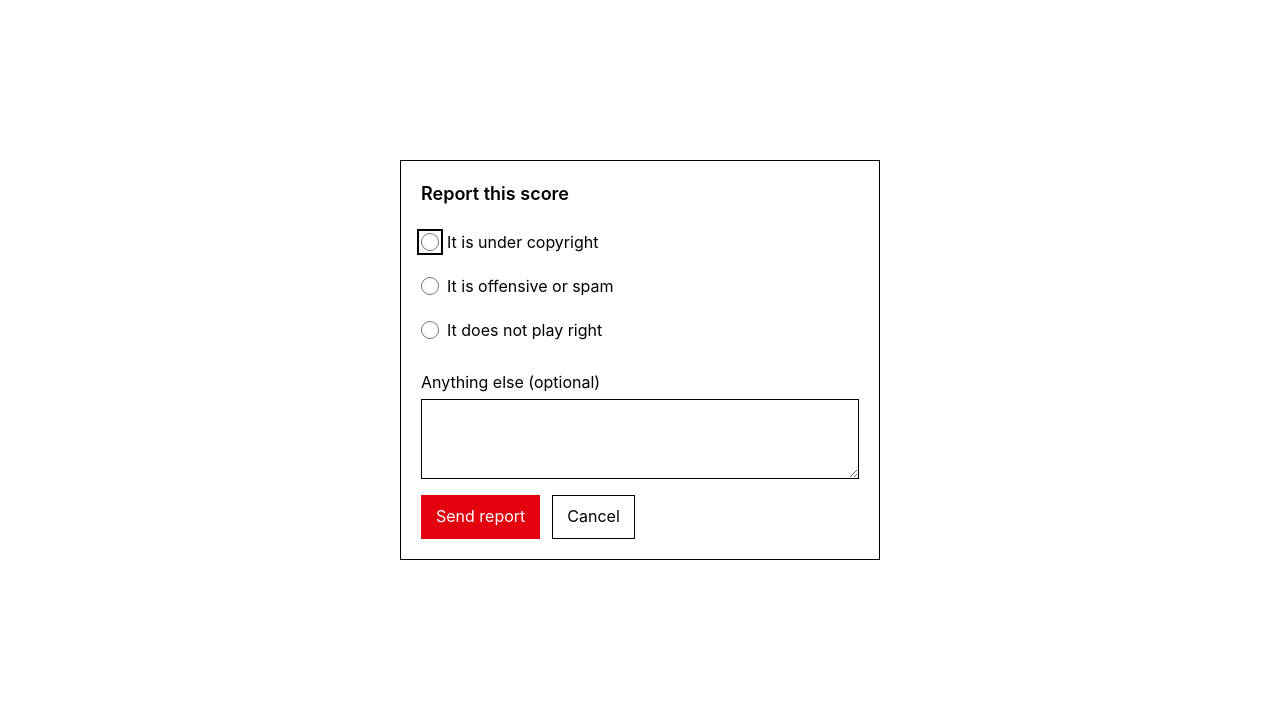
Test: a report that cannot be sent says so and leads to a removal request on GitHub
Click the radio button labelled "It is offensive or spam". click: point(430, 286)
box: [421,278,439,296]
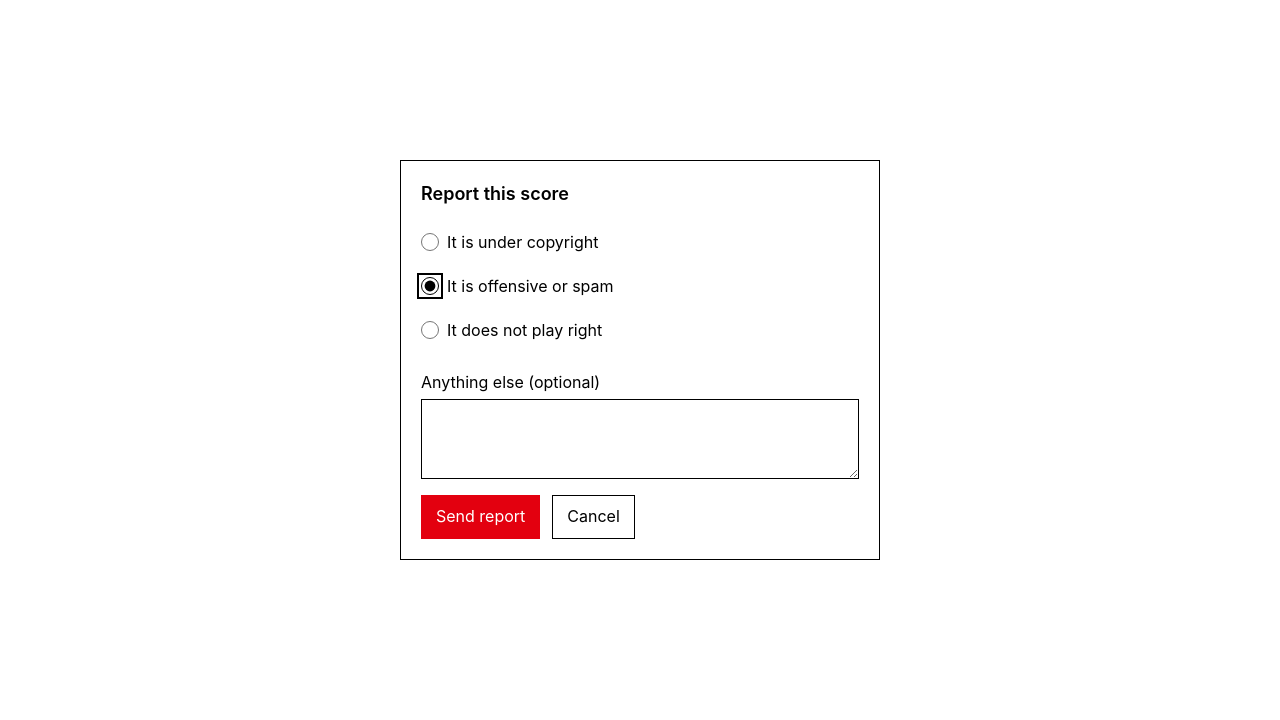
Click the button "Send report". click: point(481, 517)
box: [421,495,540,539]
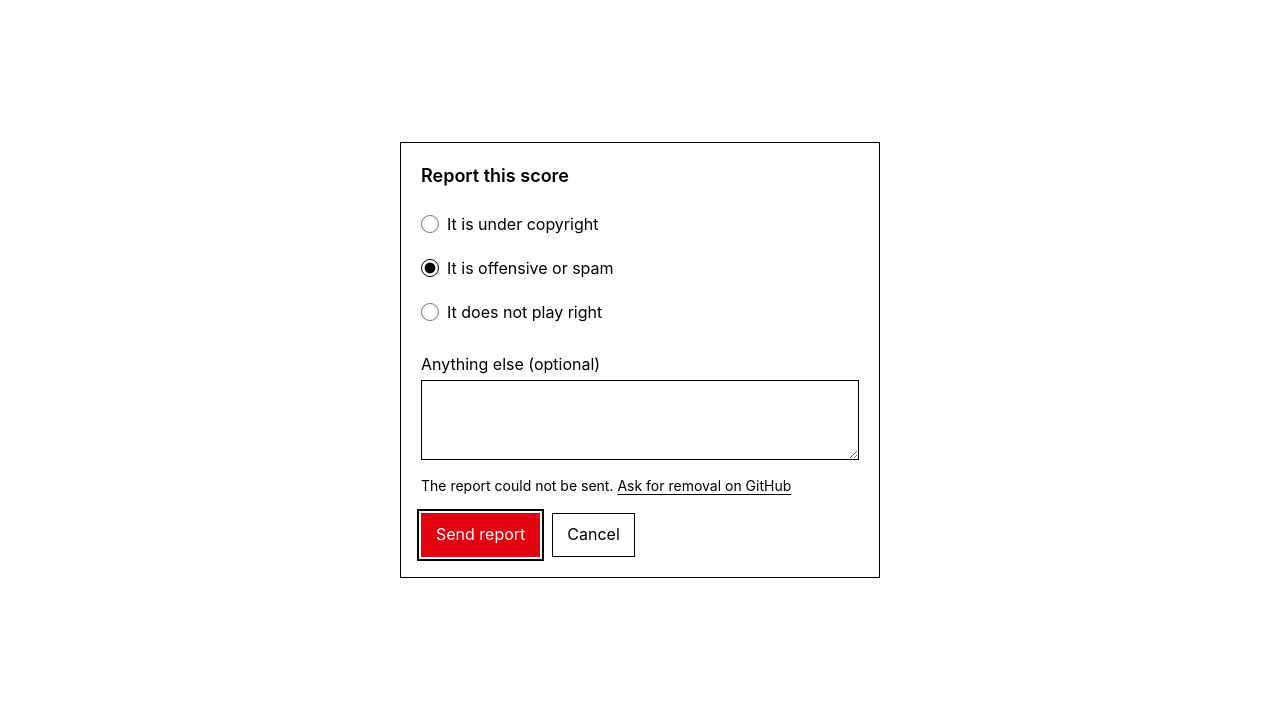
Expected: the message shows "The report could not be sent.", [421,478,614,494]
